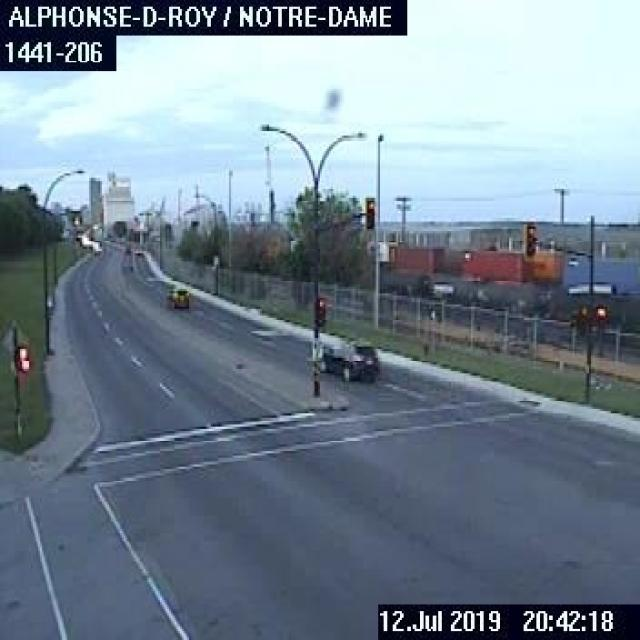vehicle: (318, 336, 376, 380), (166, 282, 190, 310)
